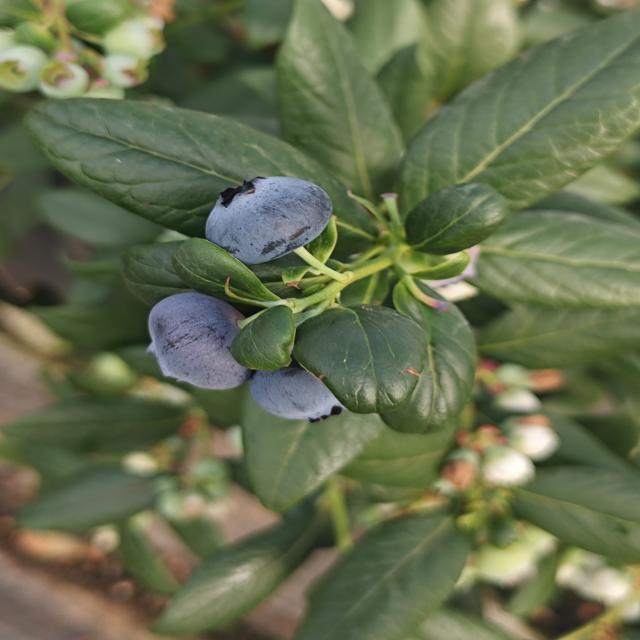ripe: (202, 174, 336, 267), (144, 290, 254, 393), (254, 369, 348, 425)
